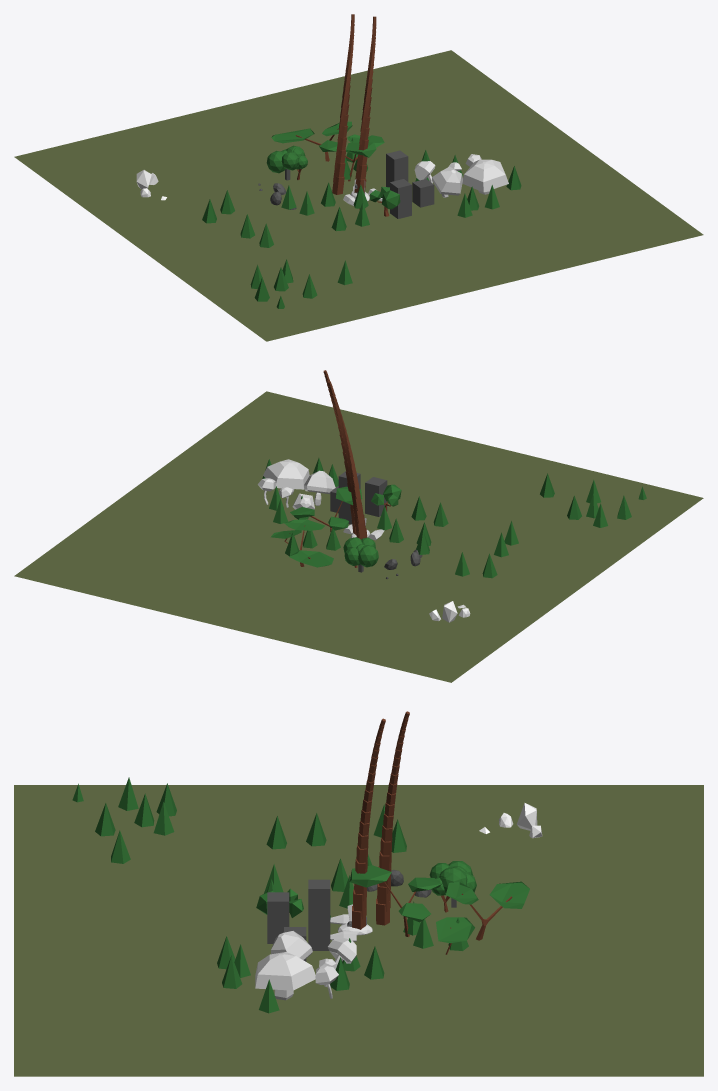
File: assets.glb
The picture shows the model from 3 angles, top to bottom: view 1: azimuth 30°, elevation 25°; view 2: azimuth 150°, elevation 25°; view 3: azimuth 270°, elevation 25°; orthographic projection. The views are drawn at different scales.
Parts seen in each view (by area): view 1: Ground, Tentacle.001, Tentacle, Mushroom.001, Tree3, Tree4, Mushroom.005, Cube, Cube.003, Cube.002; view 2: Ground, Tentacle.001, Mushroom.001, Tree4, Tree3, Cube.003, Mushroom.005; view 3: Ground, Tentacle.001, Tentacle, Mushroom.001, Cube, Tree3, Tree4, Cube.003, Tree5, Mushroom.005, Ship, Mushroom.002 (+1 smaller).
Boxes of the visible parts, x1=… form: Ground: x1=14, y1=50, x2=703, y2=341; Tentacle.001: x1=332, y1=14, x2=354, y2=194; Tentacle: x1=354, y1=16, x2=376, y2=192; Mushroom.001: x1=462, y1=159, x2=508, y2=194; Tree3: x1=319, y1=135, x2=384, y2=181; Tree4: x1=271, y1=121, x2=352, y2=161; Mushroom.005: x1=432, y1=166, x2=462, y2=197; Cube: x1=386, y1=150, x2=408, y2=187; Cube.003: x1=390, y1=179, x2=411, y2=218; Cube.002: x1=412, y1=179, x2=434, y2=207; Ground: x1=14, y1=391, x2=703, y2=682; Tentacle.001: x1=327, y1=380, x2=367, y2=539; Mushroom.001: x1=263, y1=459, x2=309, y2=494; Tree4: x1=284, y1=519, x2=333, y2=567; Tree3: x1=290, y1=486, x2=362, y2=531; Cube.003: x1=365, y1=477, x2=387, y2=516; Mushroom.005: x1=304, y1=470, x2=335, y2=505; Ground: x1=14, y1=785, x2=703, y2=1076; Tentacle.001: x1=376, y1=711, x2=409, y2=925; Tentacle: x1=352, y1=718, x2=385, y2=929; Mushroom.001: x1=255, y1=952, x2=315, y2=1000; Cube: x1=308, y1=879, x2=330, y2=950; Tree3: x1=349, y1=865, x2=441, y2=936; Tree4: x1=446, y1=881, x2=529, y2=940; Cube.003: x1=267, y1=892, x2=289, y2=943; Tree5: x1=436, y1=917, x2=474, y2=954; Mushroom.005: x1=271, y1=931, x2=312, y2=960; Ship: x1=330, y1=914, x2=372, y2=941; Mushroom.002: x1=328, y1=938, x2=356, y2=964.
Size of the model in its own units: 62.58 by 24.73 by 62.58.
